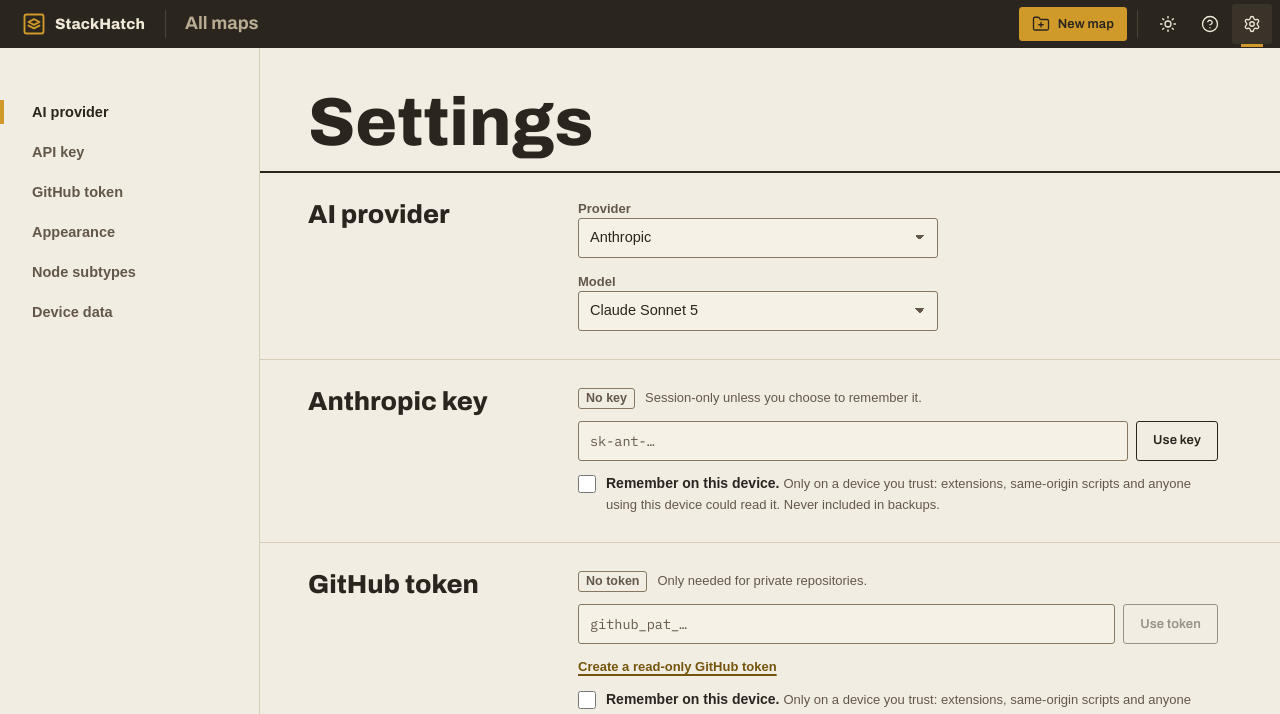
Test case: DeviceSettingsPage › rejects an invalid key shape without saving or exposing it
Expected: the text "No key" is shown, [578,388,635,409]
In the password field named "Anthropic API key": (853, 441) [578,421,1128,461], type "hello"
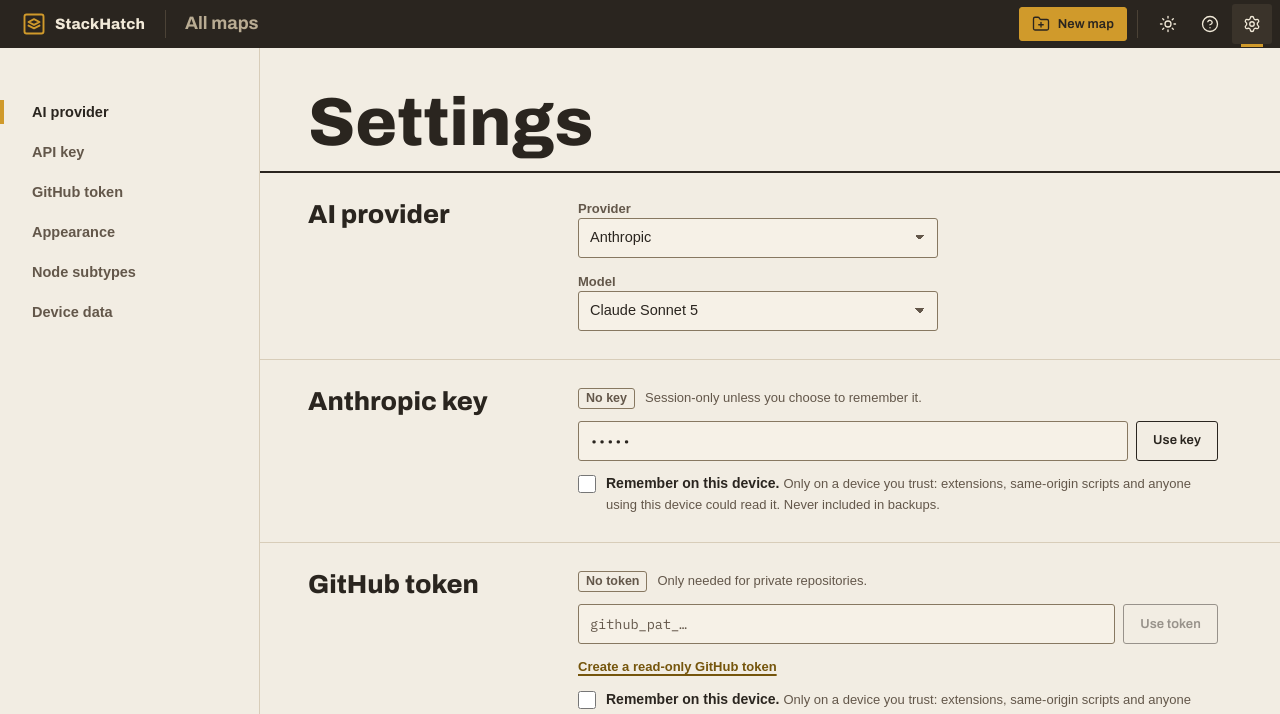
Click the button "Use key": (1177, 441) [1136,421,1218,461]
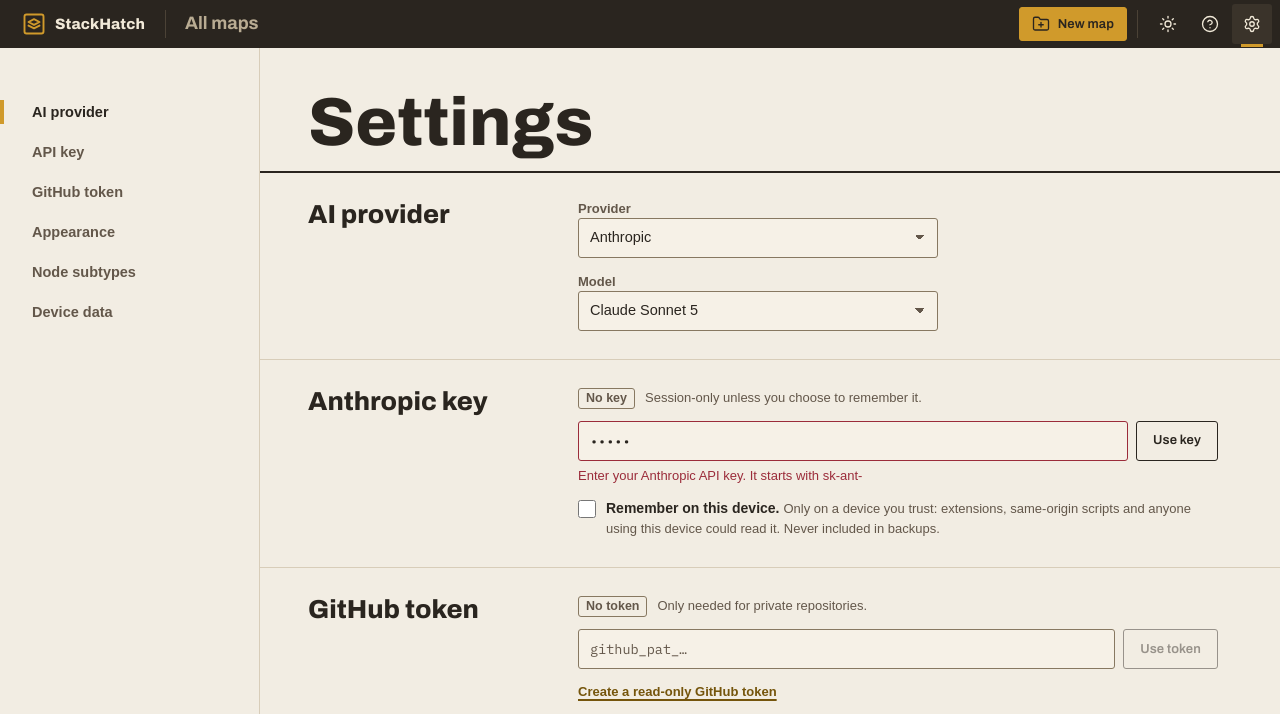
Expected: the text "No key" is shown, [578,388,635,409]
Expected: the message shows "It starts with sk-ant-", [578,468,862,483]
